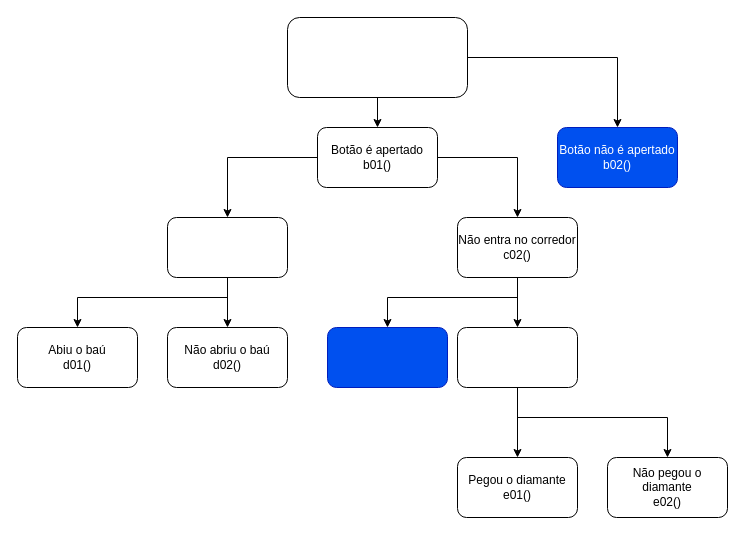
Some shapes in this 745 by 535 pixel diagram are drawn without their labels. The centre of each missing label's shape, as x and y in pixels:
"a01() BOTAO" goes at point 377,57.
"Corredor da comida d03()" goes at point 387,357.
"Corredor das artes d04()" goes at point 517,357.
"Entra no corredor c01()" goes at point 227,247.
